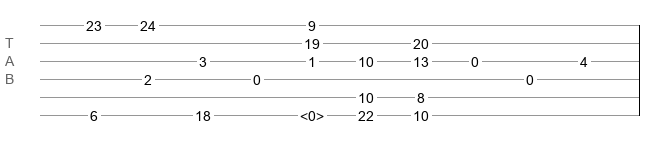0: (253, 72, 261, 82), (471, 54, 479, 64), (526, 72, 534, 82)
1: (308, 54, 316, 64)
10: (358, 90, 374, 100), (358, 54, 374, 64), (413, 108, 429, 118)
13: (413, 54, 429, 64)
18: (195, 108, 211, 118)
19: (304, 36, 320, 46)
2: (144, 72, 152, 82)
20: (413, 36, 429, 46)
22: (358, 108, 374, 118)
23: (86, 18, 102, 28)
24: (140, 18, 156, 28)
3: (199, 54, 207, 64)
4: (580, 54, 588, 64)
6: (90, 108, 98, 118)
8: (417, 90, 425, 100)
9: (308, 18, 316, 28)
harmonic: (300, 108, 324, 118)
